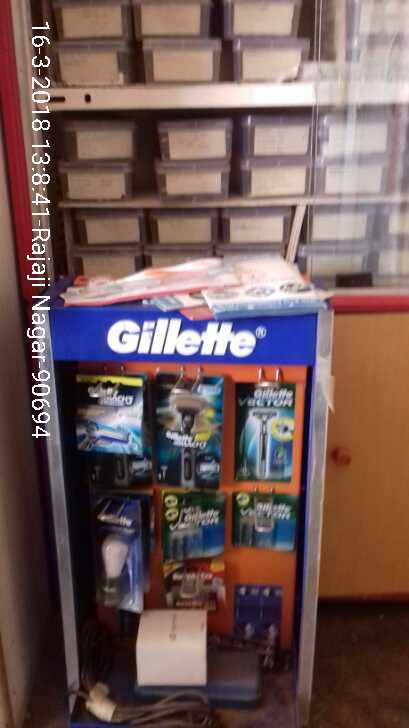gillette: (89, 496, 144, 611), (74, 380, 147, 454), (162, 385, 212, 487), (233, 495, 300, 557), (165, 493, 223, 553)
